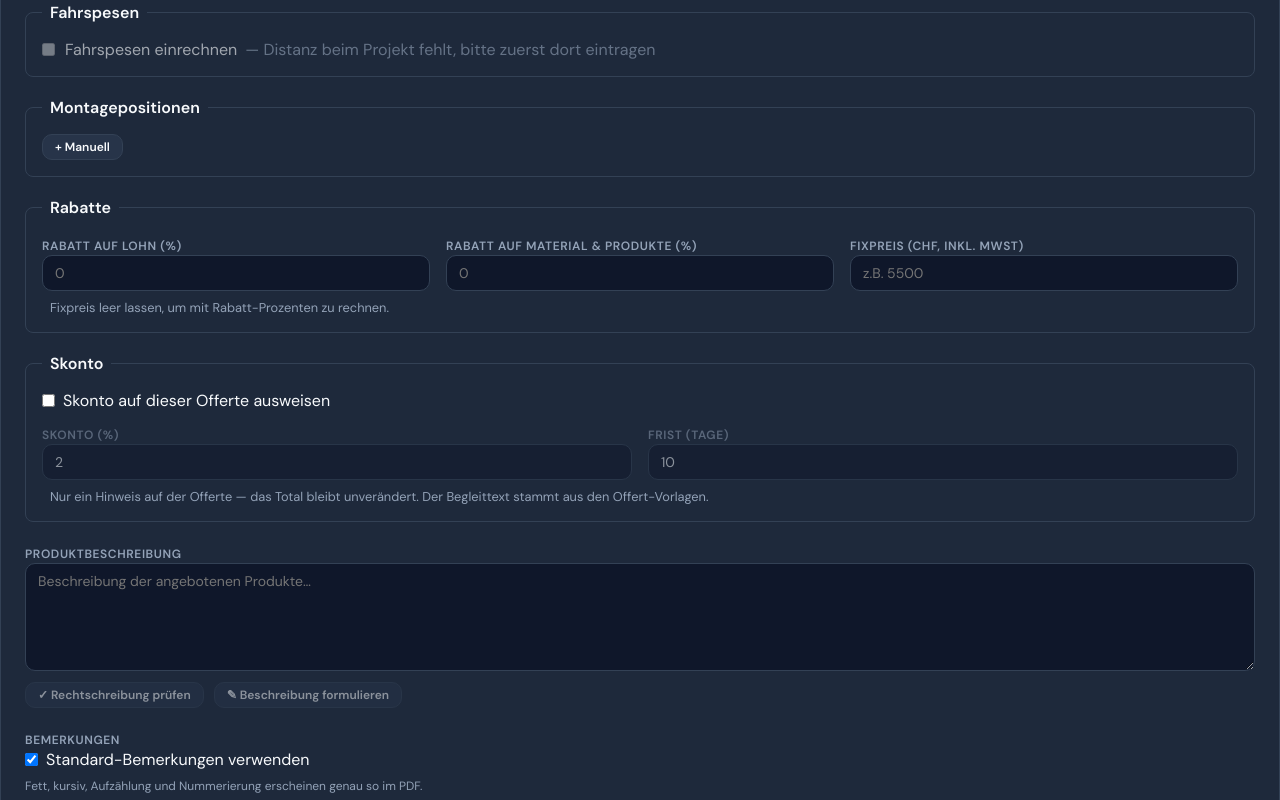
Test: QuoteCreateForm — Skonto-Häkchen › meldet einen Fehler und speichert nicht, wenn das Häkchen gesetzt und das Feld leer ist
(page scrolled)
Expected: the field below "Skonto (%)" holds "2", [42,444,632,480]
Click the checkbox labelled "Skonto auf dieser Offerte ausweisen" at (48, 400), box [42,394,55,407]
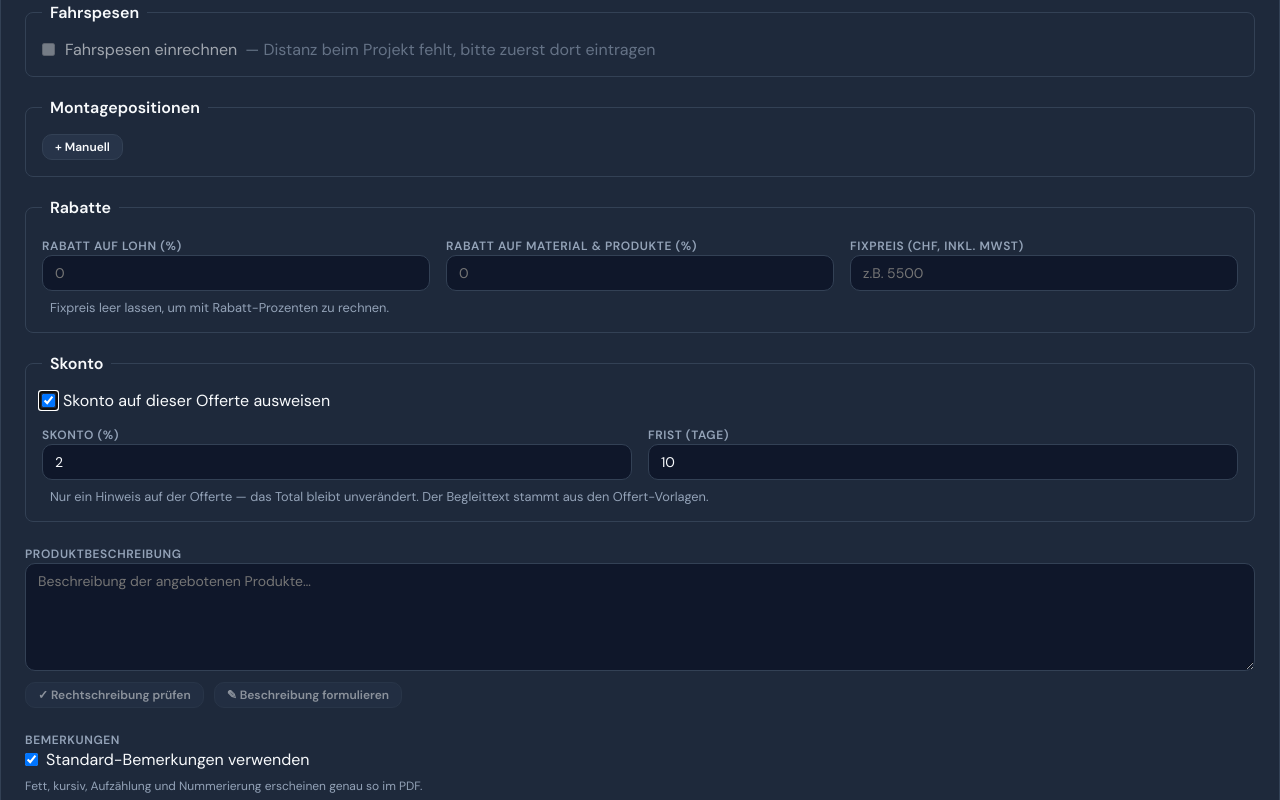
Clear the field below "Skonto (%)" at (337, 462), box [42,444,632,480]
(page scrolled)
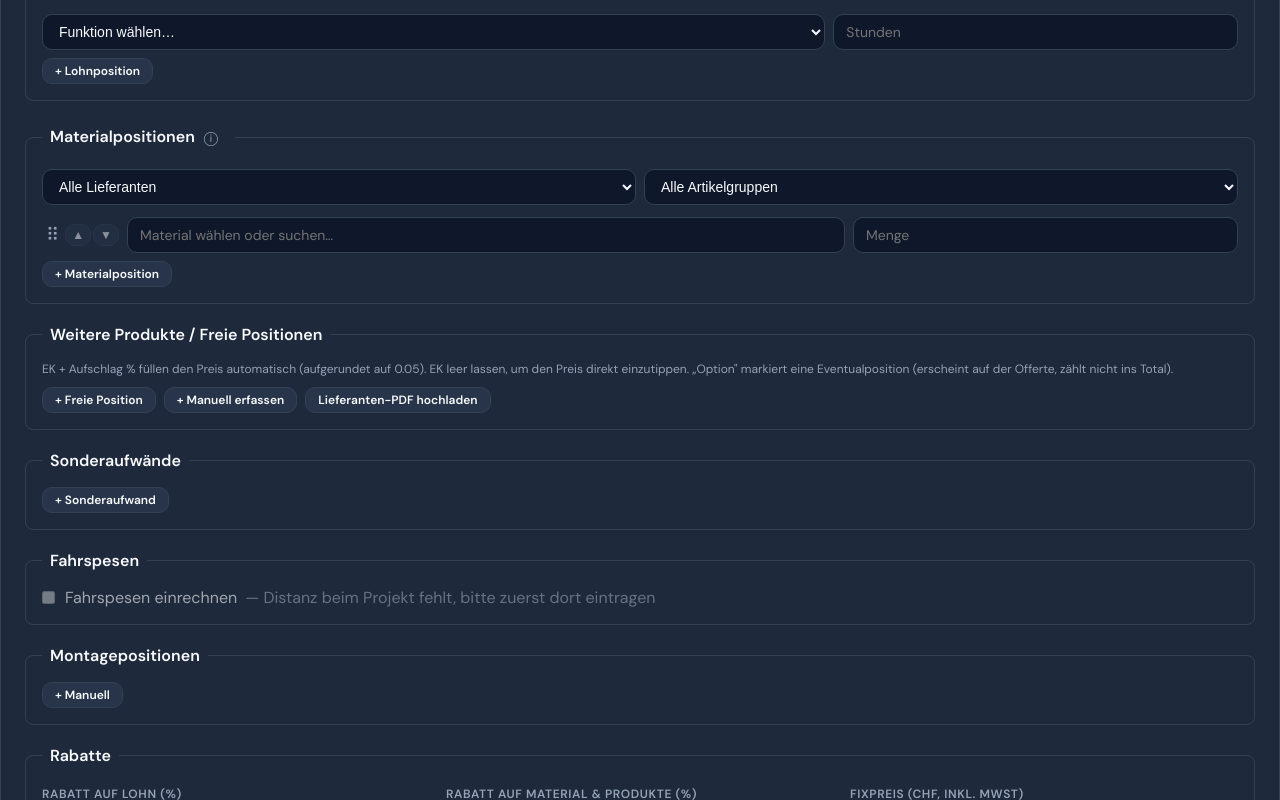
Note: Eine Position, damit nicht schon «Mindestens eine Position erforderlich» greift.
Click the button "+ Freie Position" at (99, 400), box [42,387,156,413]
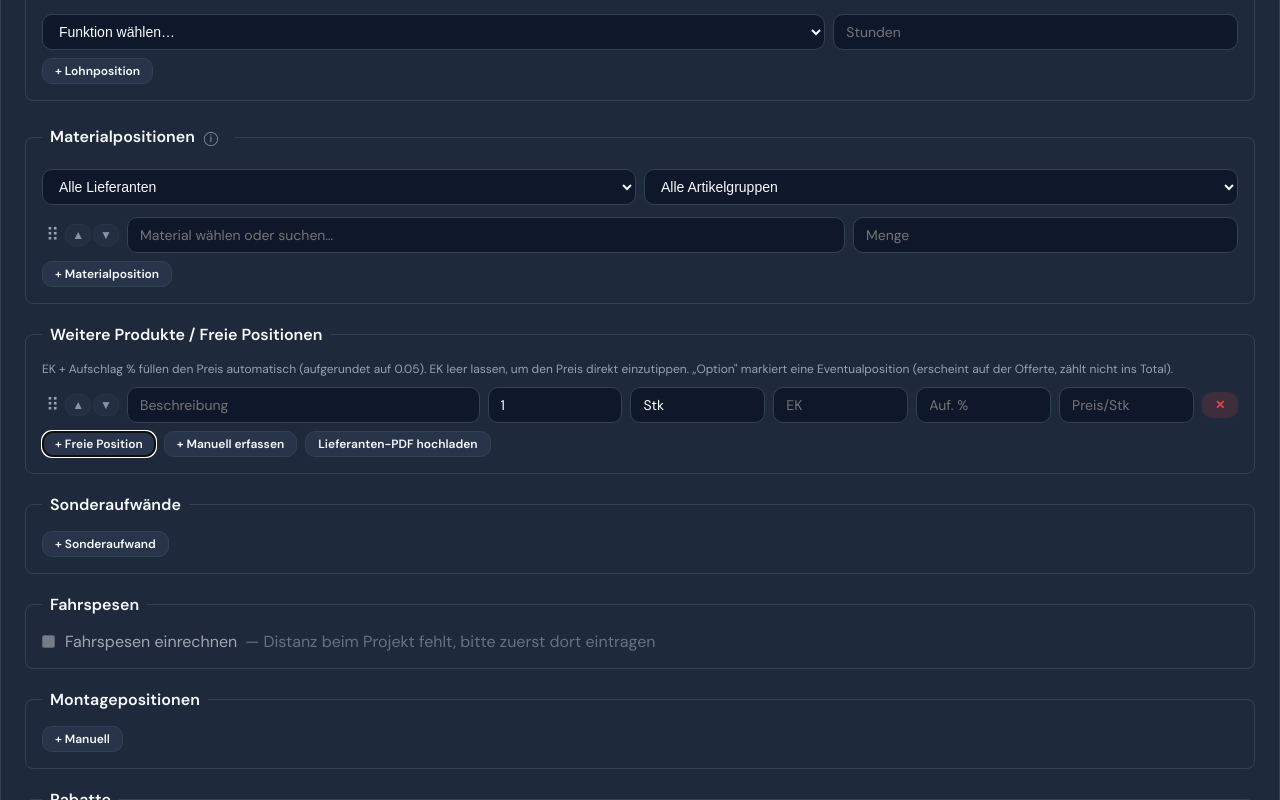
Type "Montage" into the text box with placeholder "Beschreibung" at (303, 405), box [127,387,480,423]
(page scrolled)
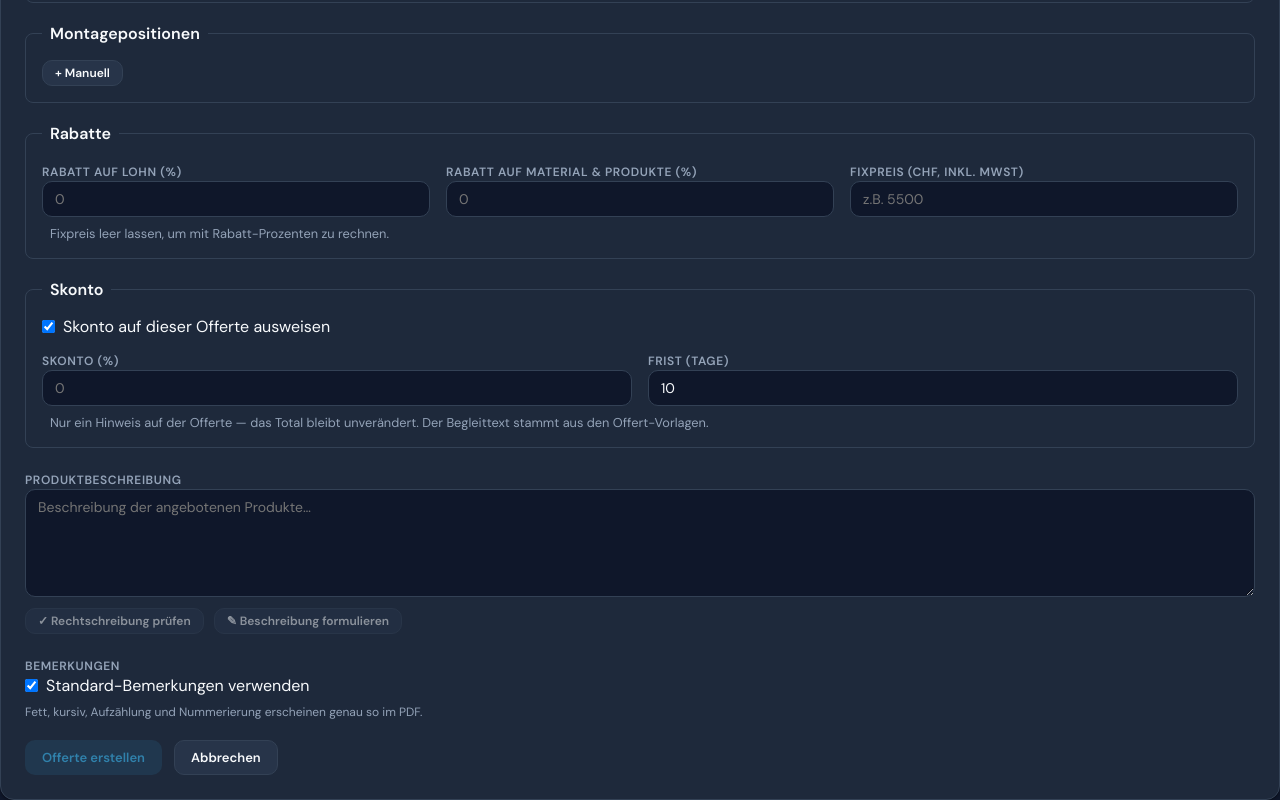
Click the button "Offerte erstellen" at (94, 758), box [25,740,162,775]
(page scrolled)
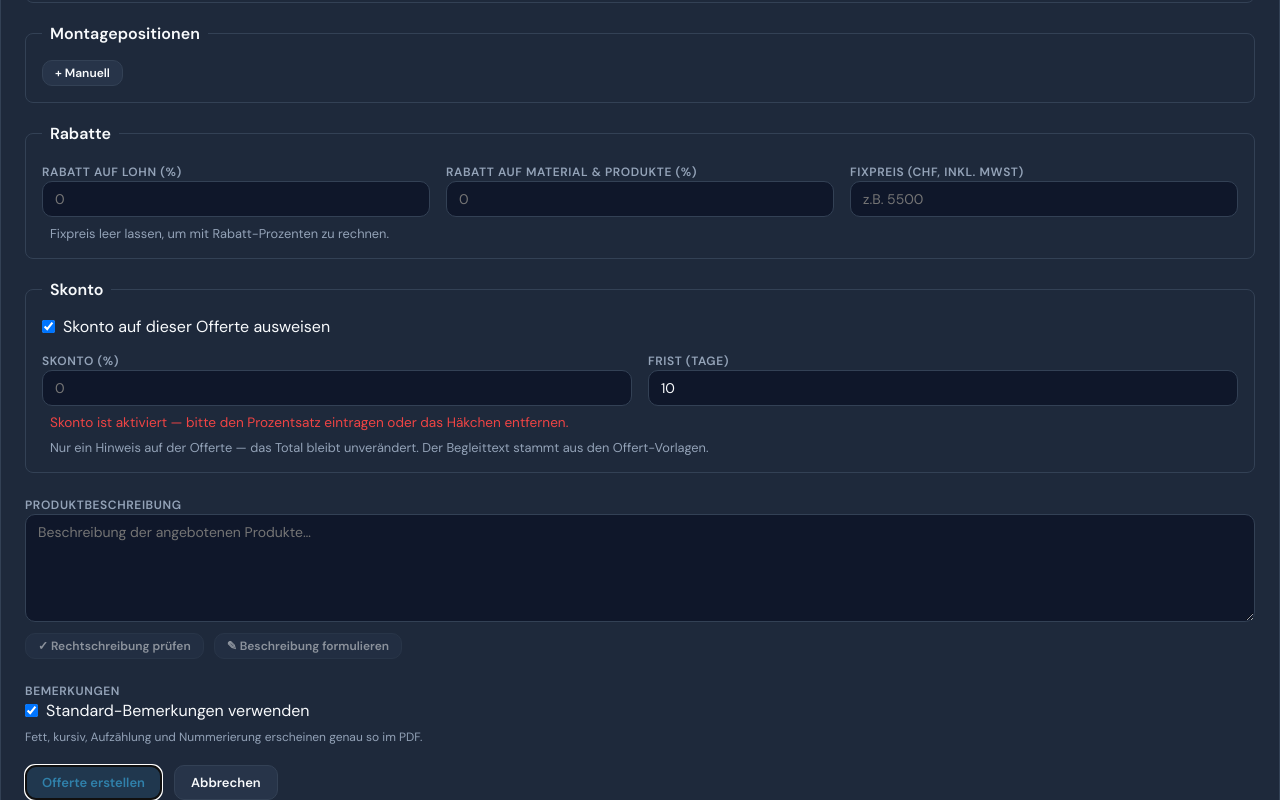
Now the message shows "Prozentsatz", box [50,414,568,431]
